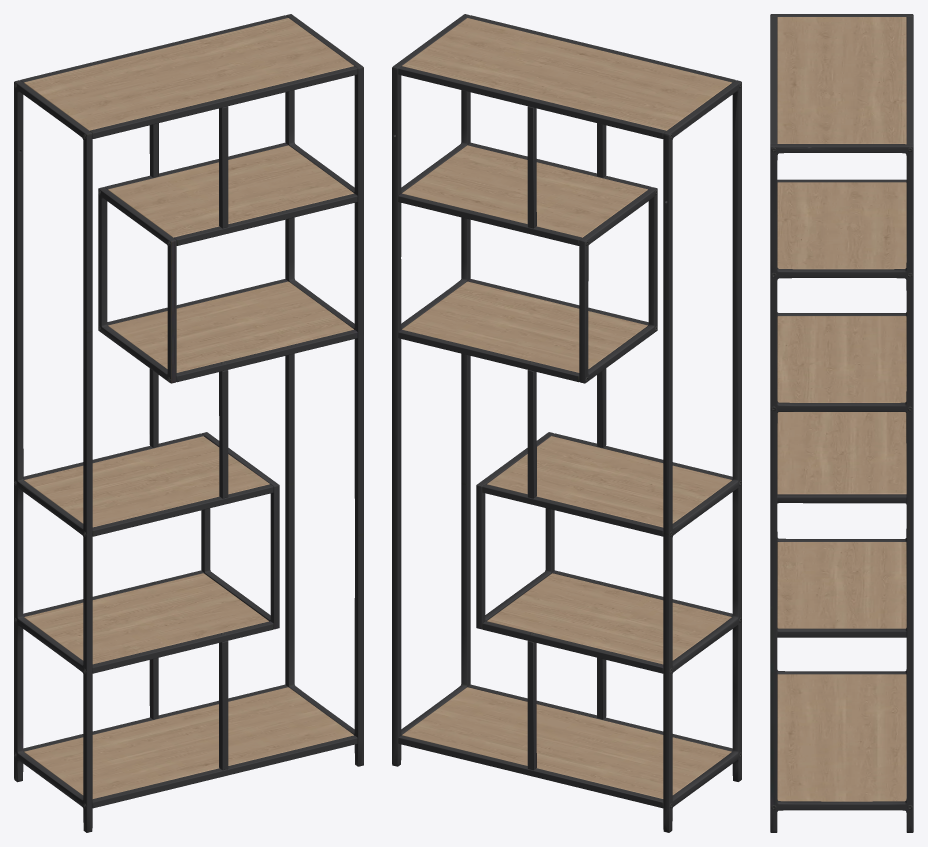
Rendered from B07QTB45S5.glb.
The picture shows the model from 3 angles, left to right: view 1: azimuth 30°, elevation 25°; view 2: azimuth 150°, elevation 25°; view 3: azimuth 270°, elevation 25°; orthographic projection.
Parts seen in each view (by area): view 1: B07QTB45S5; view 2: B07QTB45S5; view 3: B07QTB45S5.
Part boxes in pixels (x1,y1,x2,y2): B07QTB45S5: [14, 14, 363, 832]; B07QTB45S5: [392, 14, 741, 832]; B07QTB45S5: [770, 14, 913, 832].
Bounding box in the file's own units: 0.7699 × 1.85 × 0.35.
Materials: 1 (1 with a texture image).
